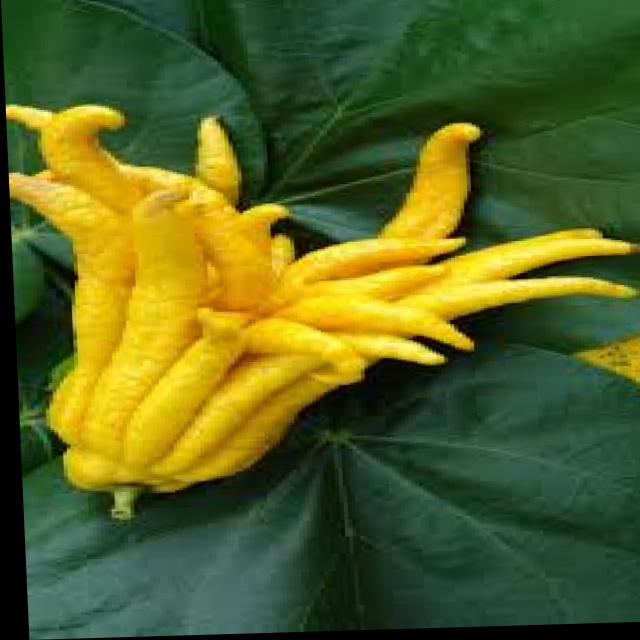PhatThu: (7, 78, 639, 518)
